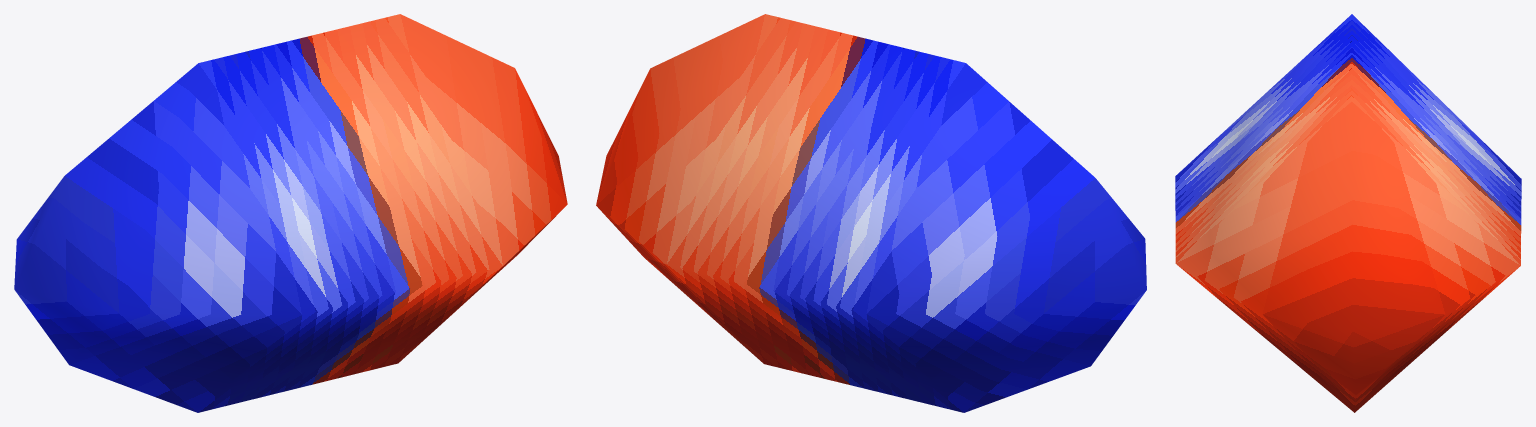
Rendered from spy_grenade.glb.
3 renders of one model, left to right at view 1: azimuth 30°, elevation 25°; view 2: azimuth 150°, elevation 25°; view 3: azimuth 270°, elevation 25°, orthographic. The views are drawn at different scales.
Visible parts, largest first — view 1: spy_grenade; view 2: spy_grenade; view 3: spy_grenade.
Boxes of the visible parts, left/top/right/bottom form: spy_grenade: left=14, top=14, right=567, bottom=412; spy_grenade: left=596, top=14, right=1146, bottom=412; spy_grenade: left=1175, top=14, right=1521, bottom=412.
Size of the model in its own units: 16.44 by 10.13 by 10.2.
1 material, 1 textured.
